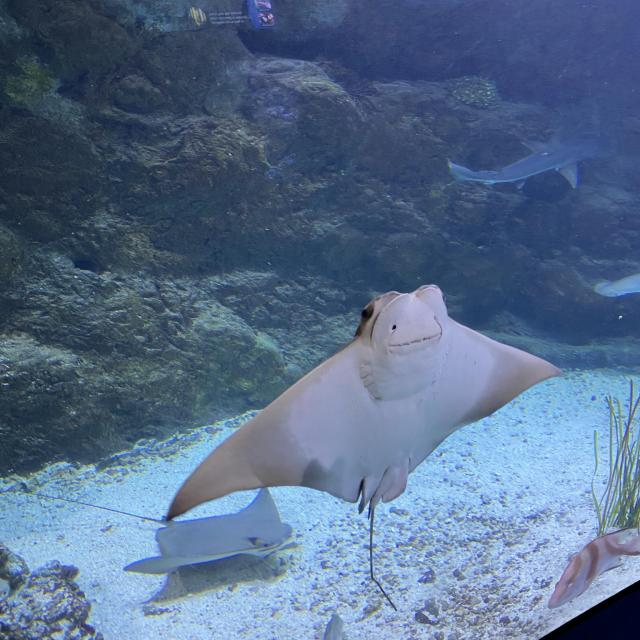fish: (548, 528, 640, 610)
shark: (447, 138, 598, 189), (594, 272, 640, 297)
stingray: (167, 284, 562, 519), (124, 487, 294, 575)
